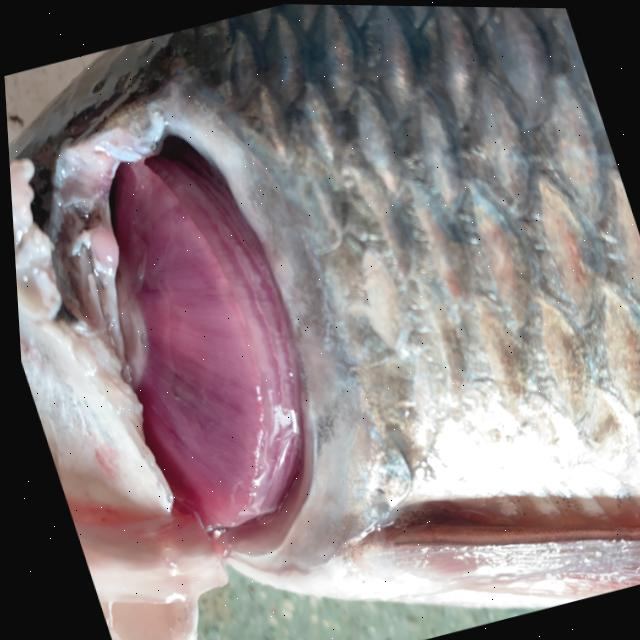Fresh: (3, 55, 374, 617)
